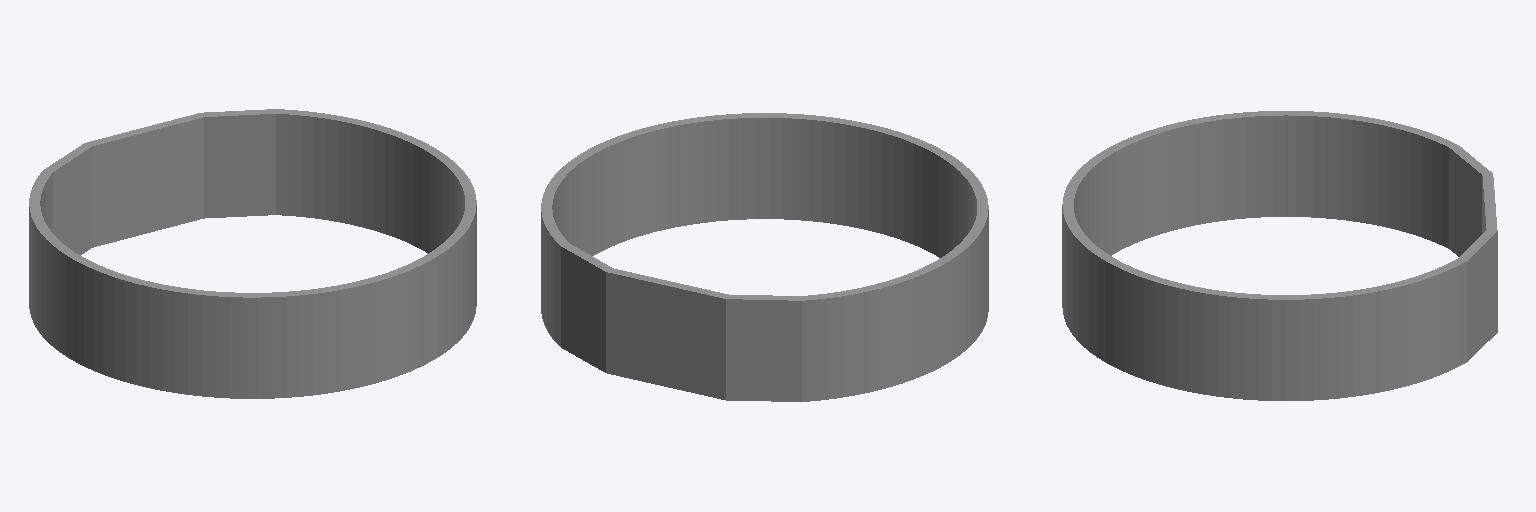
Rendered from gate5.obj.
3 views of the same model, side by side, from view 1: azimuth 30°, elevation 25°; view 2: azimuth 150°, elevation 25°; view 3: azimuth 270°, elevation 25° (orthographic).
Parts seen in each view (by area): view 1: Cylinder; view 2: Cylinder; view 3: Cylinder.
Part boxes in pixels (left/top/right/bottom): Cylinder: left=29, top=109, right=476, bottom=398; Cylinder: left=541, top=113, right=988, bottom=401; Cylinder: left=1062, top=111, right=1497, bottom=400.
Bounding box in the file's own units: 4 × 1 × 3.89.